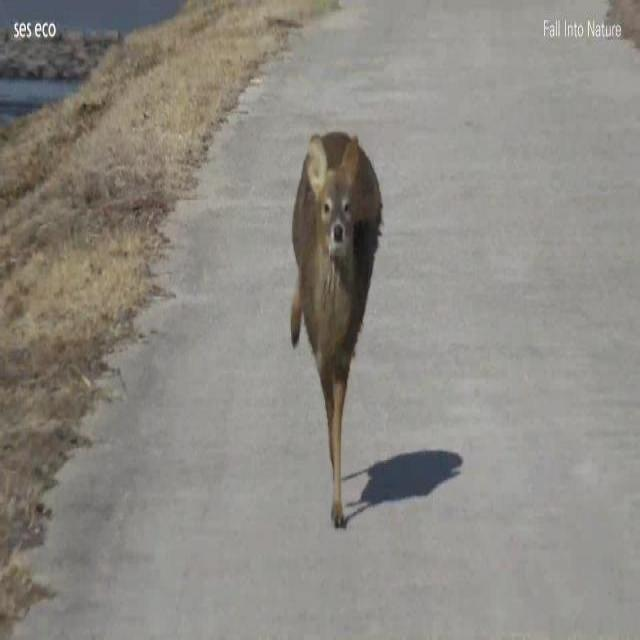deer: (291, 128, 384, 528)
